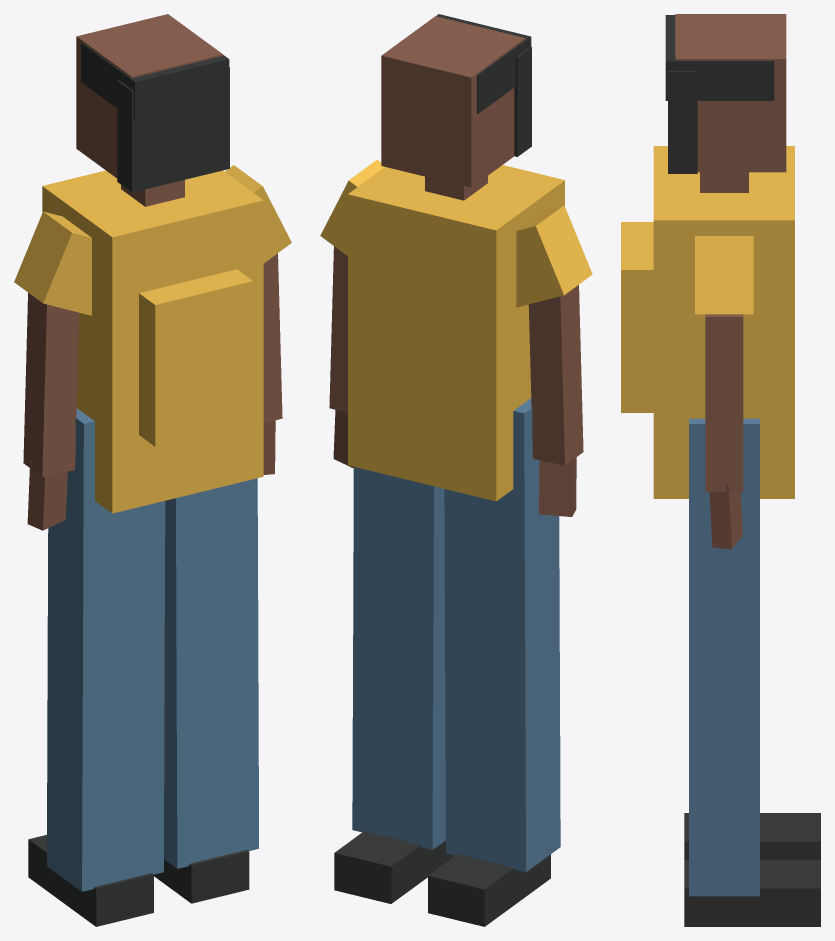
Rendered from pedestrian_02_far.glb.
The picture shows the model from 3 angles, left to right: view 1: azimuth 30°, elevation 25°; view 2: azimuth 150°, elevation 25°; view 3: azimuth 270°, elevation 25°; orthographic projection. The views are drawn at different scales.
Visible parts, largest first — view 1: pedestrian_02 crowd_trousers.001, pedestrian_02 crowd_shirt.001, pedestrian_02 crowd_skin.001, pedestrian_02 crowd_rubber.001, Backpack; view 2: pedestrian_02 crowd_trousers.001, pedestrian_02 crowd_shirt.001, pedestrian_02 crowd_skin.001, pedestrian_02 crowd_rubber.001; view 3: pedestrian_02 crowd_shirt.001, pedestrian_02 crowd_trousers.001, pedestrian_02 crowd_skin.001, pedestrian_02 crowd_rubber.001, Backpack.
Boxes of the visible parts, x1,y1,x2,y2 form: pedestrian_02 crowd_trousers.001: [47, 408, 258, 891]; pedestrian_02 crowd_shirt.001: [14, 165, 291, 513]; pedestrian_02 crowd_skin.001: [23, 14, 282, 530]; pedestrian_02 crowd_rubber.001: [28, 42, 249, 926]; Backpack: [139, 269, 253, 446]; pedestrian_02 crowd_trousers.001: [352, 398, 560, 872]; pedestrian_02 crowd_shirt.001: [320, 159, 592, 501]; pedestrian_02 crowd_skin.001: [329, 16, 583, 516]; pedestrian_02 crowd_rubber.001: [334, 14, 550, 926]; pedestrian_02 crowd_shirt.001: [653, 146, 794, 498]; pedestrian_02 crowd_trousers.001: [689, 418, 759, 896]; pedestrian_02 crowd_skin.001: [675, 14, 786, 549]; pedestrian_02 crowd_rubber.001: [665, 15, 820, 926]; Backpack: [621, 222, 653, 412].
Size of the model in its own units: 0.527 by 1.71 by 0.3638.
